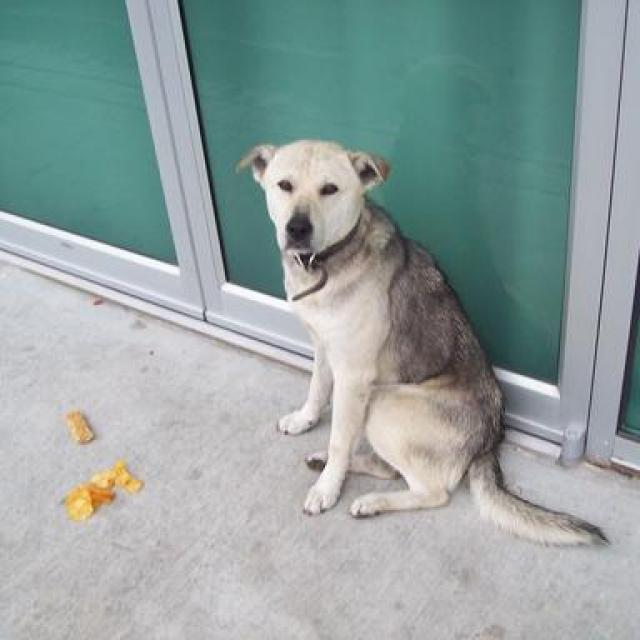adult_dog: (234, 137, 611, 550)
